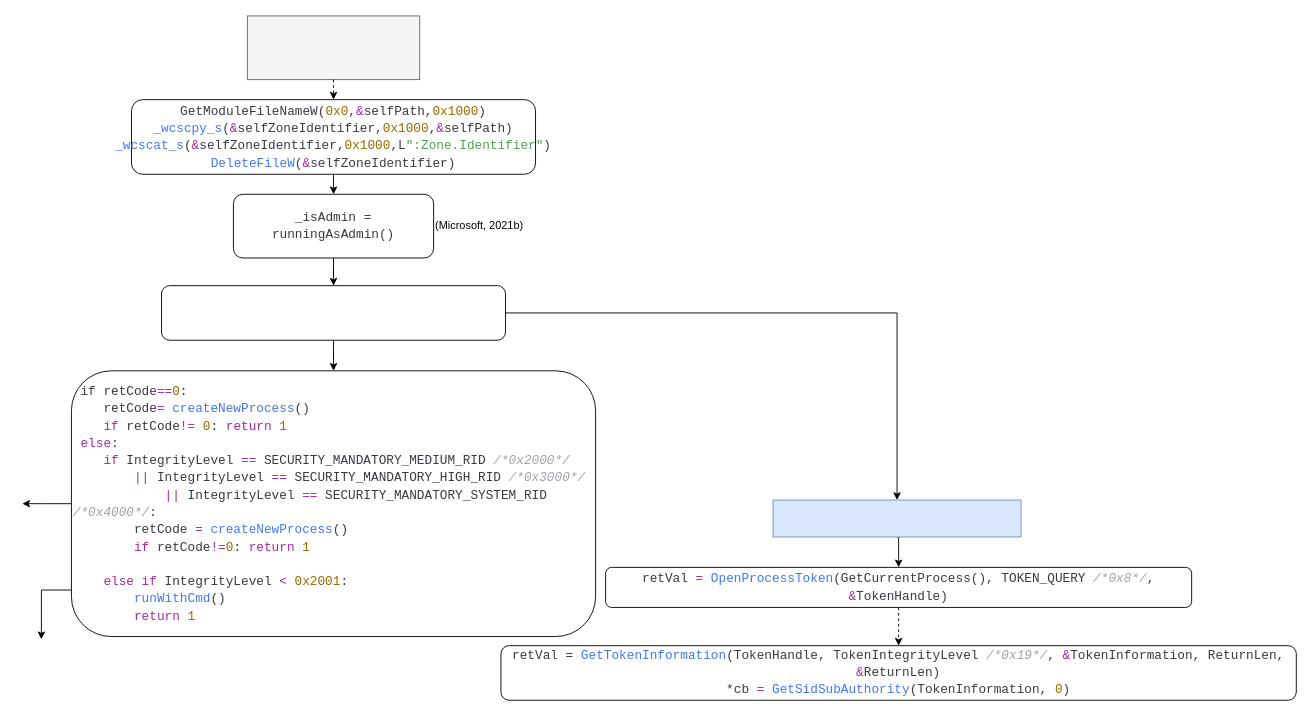
The diagram is 1312 pixels wide and 716 high, and some of its shapes have lost their labels. The shapes that lost their labels are listed below. From the top down, each one's centre as x and y in pixels, then its label:
At point (333, 47): "Unpacked Exe Starts".
At point (333, 312): "retCode = getSelfIntegrityLevel ( & IntegrityLevel)".
At point (896, 518): "getSelfIntegrityLevel(DWORD * cb):".
